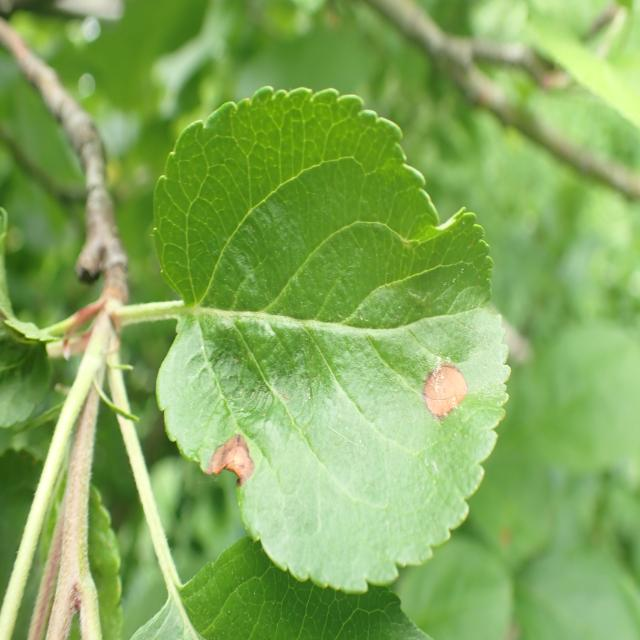Black Rot: (414, 343, 486, 425), (197, 422, 265, 508)
